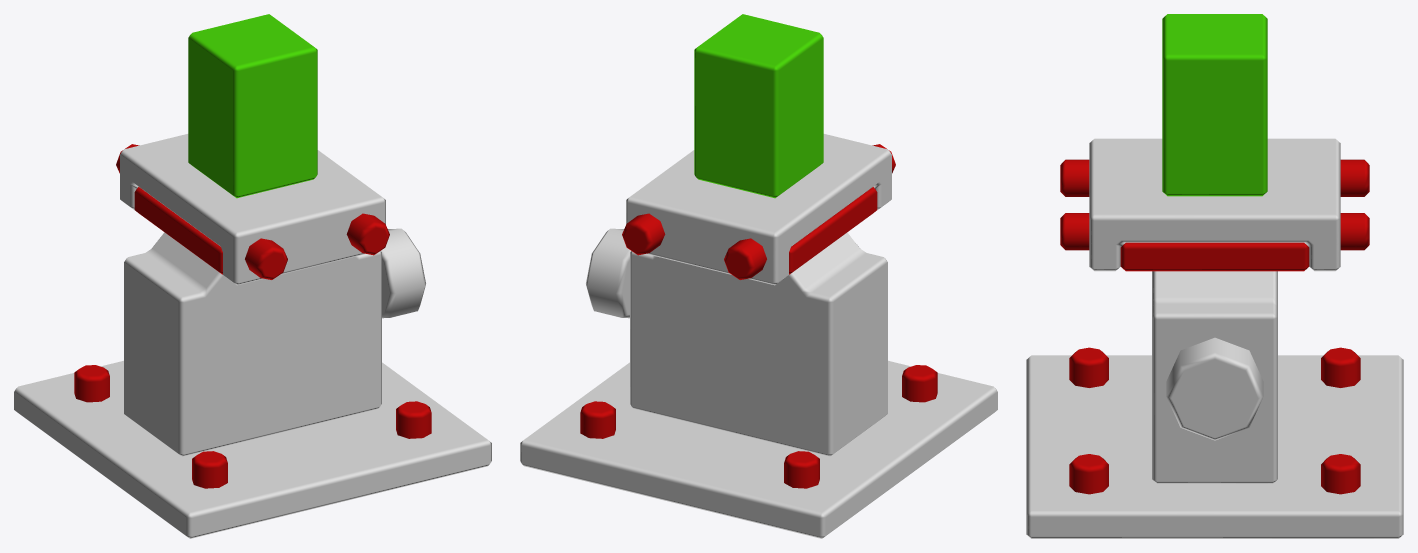
The model's file is Optic02c.fbx.
The picture shows the model from 3 angles, left to right: view 1: azimuth 30°, elevation 25°; view 2: azimuth 150°, elevation 25°; view 3: azimuth 270°, elevation 25°; orthographic projection. The views are drawn at different scales.
Visible parts, largest first — view 1: Optic02c; view 2: Optic02c; view 3: Optic02c.
Part boxes in pixels (bbox=[...]): Optic02c: bbox=[14, 14, 491, 538]; Optic02c: bbox=[520, 14, 997, 538]; Optic02c: bbox=[1026, 14, 1403, 538].
Size of the model in its own units: 7.5 by 9.38 by 7.5.
